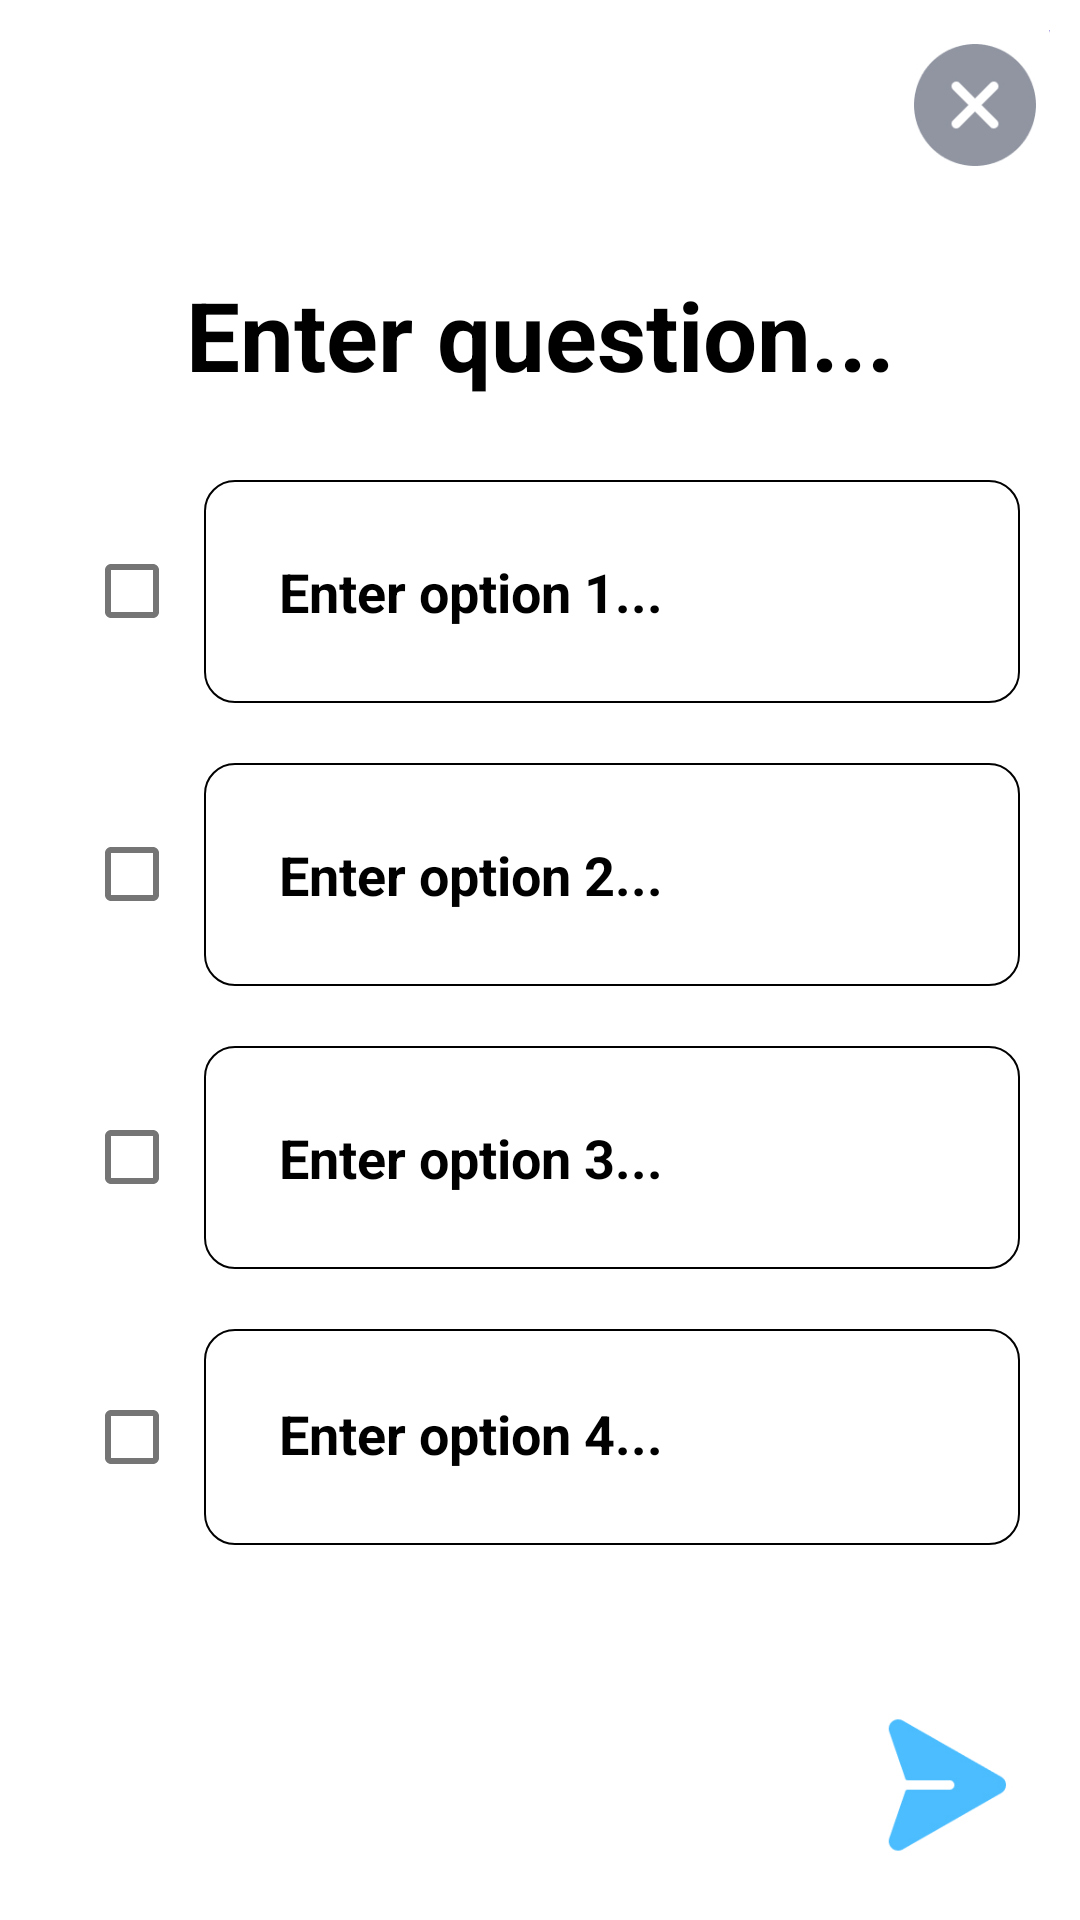

Screen size 1080px×1920px. Icon name, then its box in pixels as (x1, y1, x2, y2):
cacle: (914, 30, 1050, 166)
send: (888, 1719, 1006, 1851)
